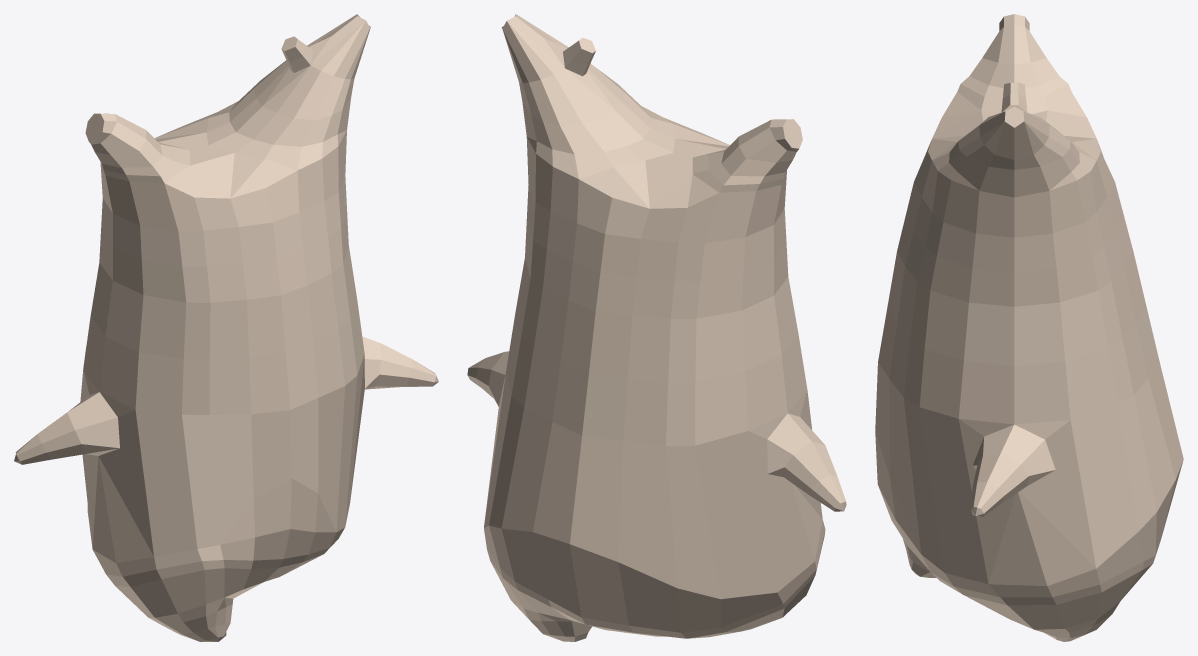
Rendered from frame_0015.obj.
3 views of the same model, side by side, from view 1: azimuth 30°, elevation 25°; view 2: azimuth 150°, elevation 25°; view 3: azimuth 270°, elevation 25° (orthographic). The views are drawn at different scales.
Parts seen in each view (by area): view 1: korok; view 2: korok; view 3: korok.
Part boxes in pixels (x1,y1,x2,y2): korok: (14,14,438,641); korok: (467,14,846,641); korok: (875,14,1183,641).
Bounding box in the file's own units: 1.58 × 2.14 × 1.05.
